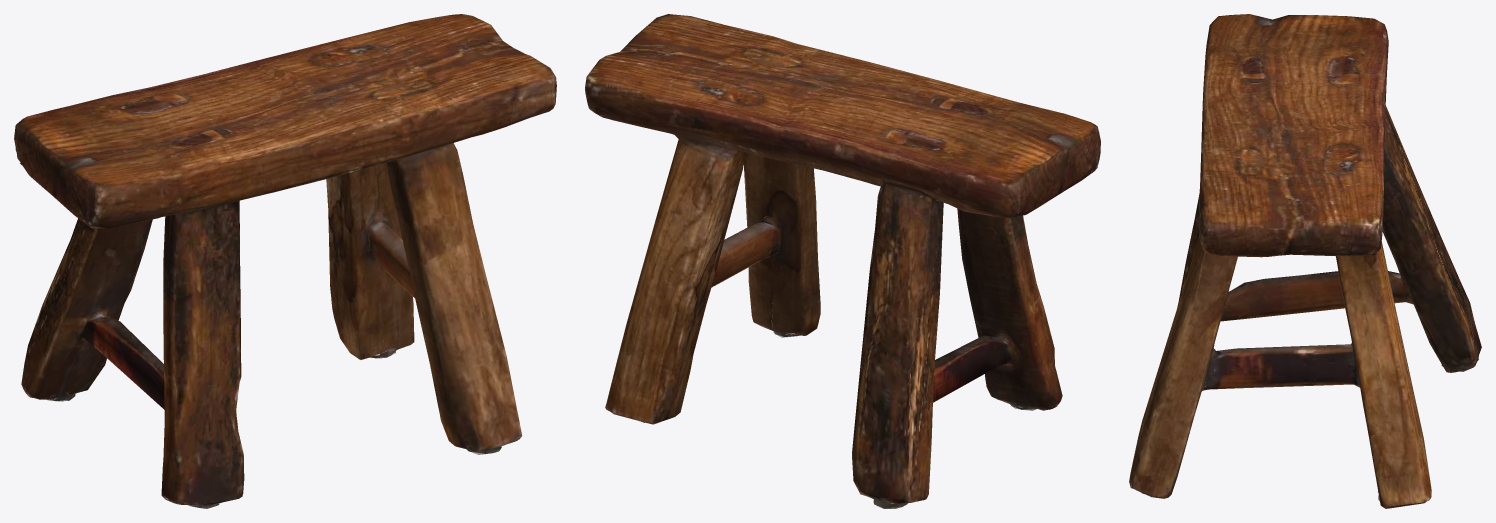
The model's file is wooden_stool_02.glb.
3 views of the same model, side by side, from view 1: azimuth 30°, elevation 25°; view 2: azimuth 150°, elevation 25°; view 3: azimuth 270°, elevation 25° (orthographic). The views are drawn at different scales.
Parts seen in each view (by area): view 1: wooden_stool_02; view 2: wooden_stool_02; view 3: wooden_stool_02.
Part boxes in pixels (<box>): wooden_stool_02: <box>14,14,556,508</box>; wooden_stool_02: <box>585,14,1100,508</box>; wooden_stool_02: <box>1129,14,1481,508</box>.
Bounding box in the file's own units: 0.2651 × 0.1821 × 0.1836.
1 material, 1 textured.
